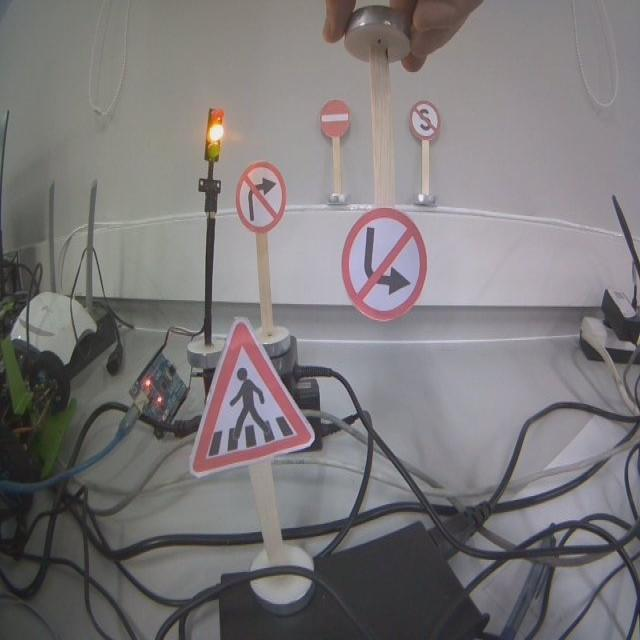Dilarang Belok Kanan: (235, 162, 287, 234)
Dilarang Belok Kiri: (341, 206, 427, 322)
Dilarang Masuk: (320, 100, 349, 139)
Lampu Kuning: (204, 106, 224, 162)
Rambu Berhenti: (410, 100, 440, 141)
Rambu Penyebrangan: (190, 320, 314, 475)
